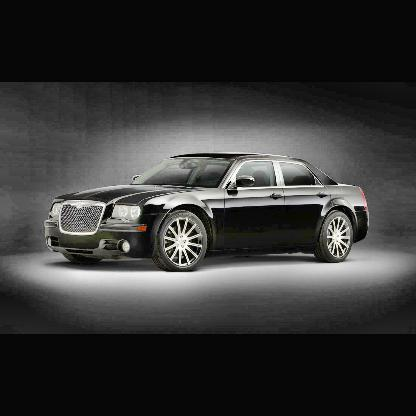Chrysler 300 SRT-8 2010: (43, 149, 372, 274)
